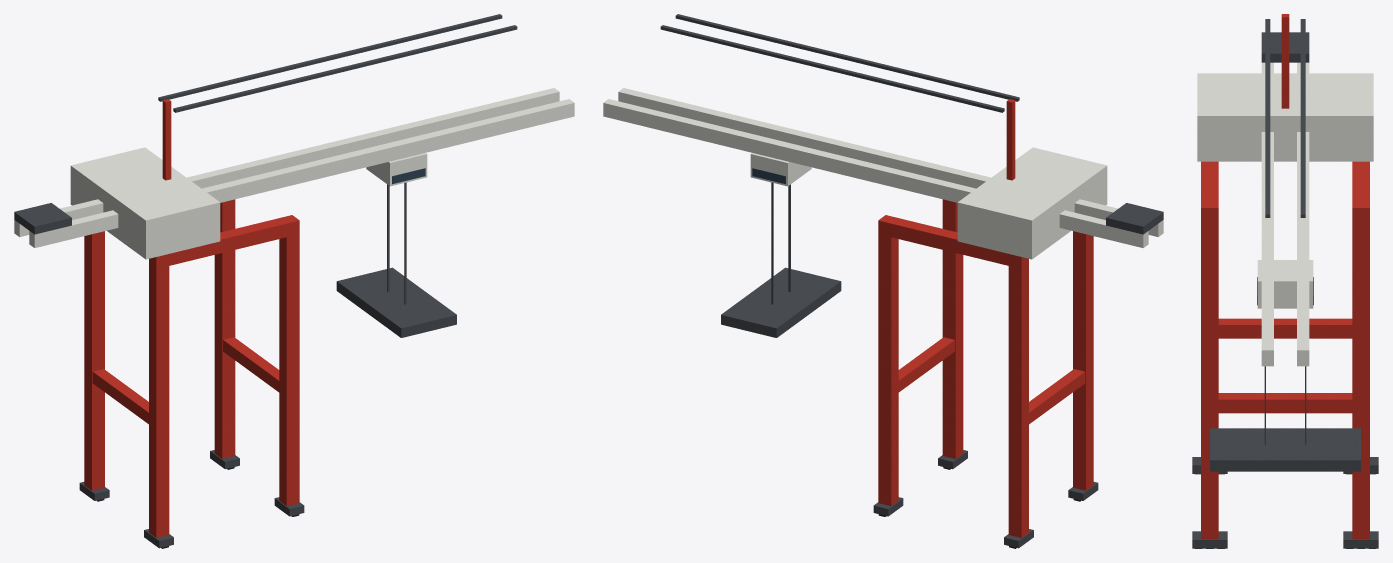
File: harbour_crane.glb
3 renders of one model, left to right at view 1: azimuth 30°, elevation 25°; view 2: azimuth 150°, elevation 25°; view 3: azimuth 270°, elevation 25°, orthographic. The views are drawn at different scales.
Parts seen in each view (by area): view 1: harbour_crane; view 2: harbour_crane; view 3: harbour_crane.
Part boxes in pixels (bbox=[...]): harbour_crane: bbox=[14, 14, 574, 548]; harbour_crane: bbox=[603, 14, 1163, 548]; harbour_crane: bbox=[1192, 14, 1378, 548].
Bounding box in the file's own units: 58 × 42 × 14.8.
5 materials, 5 textured.
